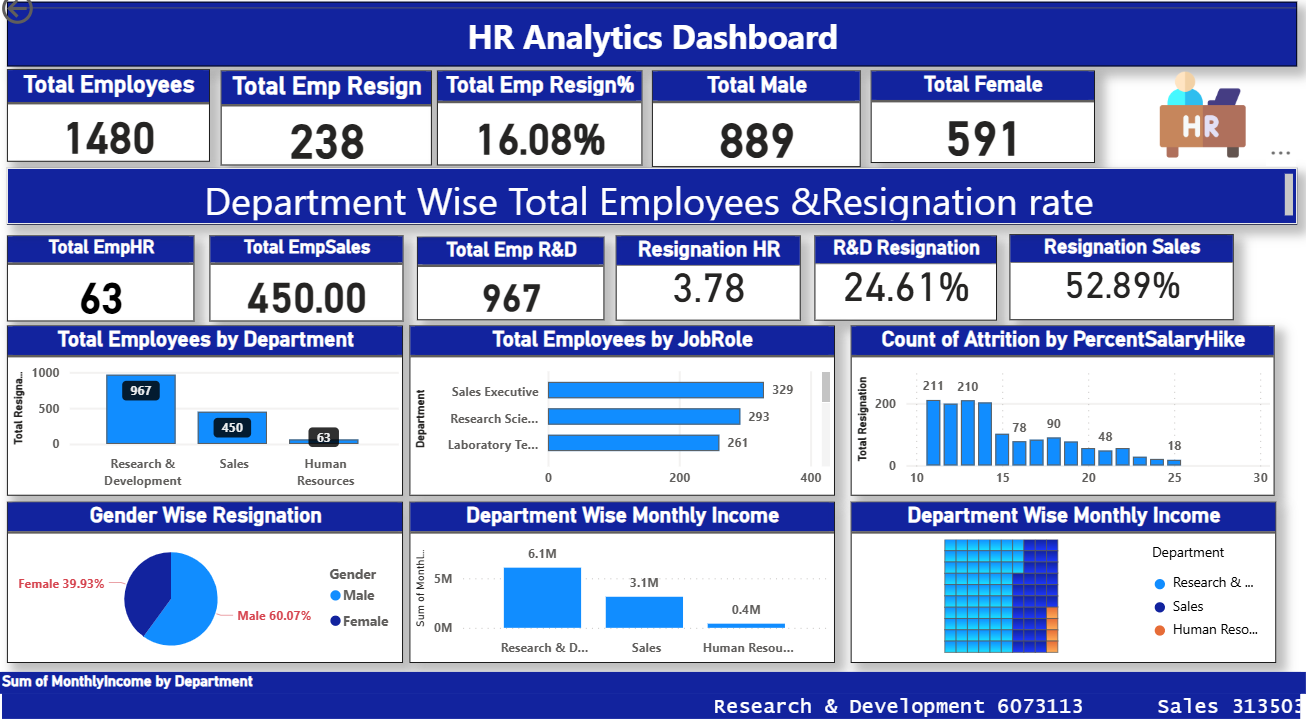

The dashboard page shown, as its layout file describes it:
{"tool":"powerbi","page":{"name":"Page 1","canvas":[1280,720],"ordinal":0},"visuals":[{"type":"textbox","box":[9.8,13.4,1261.5,63.6],"z":0},{"type":"card","title":"Total Employees","fields":{"Values":["HR_Analytics.Total Employees"]},"box":[9.8,79.5,198,90.5],"z":1000},{"type":"card","title":"Total Emp Resign","fields":{"Values":["HR_Analytics.Total Resignation"]},"box":[218.8,80.7,206.6,92.9],"z":2000},{"type":"actionButton","box":[0,0,100,40],"z":3000},{"type":"card","title":"Total Emp Resign%","fields":{"Values":["HR_Analytics.Employees Resignation%"]},"box":[430.3,80.7,200.5,92.9],"z":4000},{"type":"card","title":"Total Male","fields":{"Values":["HR_Analytics.Total Male"]},"box":[640.5,80.7,204.1,94.1],"z":5000},{"type":"card","title":"Total Female","fields":{"Values":["HR_Analytics.Total Female"]},"box":[854.5,80.7,218.8,90.5],"z":6000},{"type":"card","title":"Total EmpHR","fields":{"Values":["HR_Analytics.Total HR dept Employees"]},"box":[9.8,242,183.4,84.3],"z":7000},{"type":"card","title":"Total EmpSales","fields":{"Values":["HR_Analytics.Total Employees Research& Development"]},"box":[207.8,242,189.5,84.3],"z":8000},{"type":"card","title":"Total Emp R&D","fields":{"Values":["HR_Analytics.Total Employees Research and Development"]},"box":[410.7,243.3,183.4,81.9],"z":9000},{"type":"card","title":"Resignation HR","fields":{"Values":["HR_Analytics.Resign Human Resources"]},"box":[605.1,242,180.9,83.1],"z":10000},{"type":"card","title":" R&D Resignation","fields":{"Values":["HR_Analytics.Resignation R&d"]},"box":[799.5,242,178.5,83.1],"z":11000},{"type":"card","title":"Resignation Sales","fields":{"Values":["HR_Analytics.Resignation Sales"]},"box":[990.2,240.8,218.8,84.3],"z":12000},{"type":"textbox","box":[9.8,176,1261.5,55],"z":13000},{"type":"columnChart","fields":{"Y":["HR_Analytics.Total Employees"],"Category":["HR_Analytics.Department"]},"box":[9.8,330.1,387.5,166.2],"z":14000},{"type":"barChart","fields":{"Category":["HR_Analytics.JobRole"],"Y":["HR_Analytics.Total Employees"]},"box":[403.4,330.1,415.6,166.2],"z":15000},{"type":"columnChart","fields":{"Category":["HR_Analytics.PercentSalaryHike"],"Y":["CountNonNull(HR_Analytics.Attrition)"]},"box":[834.9,330.1,414.4,166.2],"z":16000},{"type":"pieChart","title":"Gender Wise Resignation","fields":{"Category":["HR_Analytics.Gender"],"Y":["CountNonNull(HR_Analytics.Attrition)"]},"box":[9.8,502.4,387.5,157.7],"z":17000},{"type":"columnChart","title":"Department Wise Monthly Income","fields":{"Y":["Sum(HR_Analytics.MonthlyIncome)"],"Category":["HR_Analytics.Department"]},"box":[403.4,502.4,415.6,157.7],"z":18000},{"type":"BrickChart1454871868044","title":"Department Wise Monthly Income","fields":{"Value":["Sum(HR_Analytics.MonthlyIncome)"],"Category":["HR_Analytics.Department"]},"box":[834.9,502.4,415.6,157.7],"z":19000},{"type":"ScrollingTextVisual1448795304508","fields":{"Category":["HR_Analytics.Department"],"Measure Absolute":["Sum(HR_Analytics.MonthlyIncome)"]},"box":[0,668.7,1279.9,51.3],"z":20000},{"type":"image","box":[1086.7,77,184.6,94.1],"z":21000}]}

Visuals, with their boxes in screenshot pixels (x1, y1, x2, y2), scaled from the page's 1280x720 canvas onto the 1306x719 screenshot:
textbox: [10, 13, 1297, 77]
"Total Employees" card: [10, 79, 212, 170]
"Total Emp Resign" card: [223, 81, 434, 173]
actionButton: [0, 0, 102, 40]
"Total Emp Resign%" card: [439, 81, 644, 173]
"Total Male" card: [654, 81, 862, 175]
"Total Female" card: [872, 81, 1095, 171]
"Total EmpHR" card: [10, 242, 197, 326]
"Total EmpSales" card: [212, 242, 405, 326]
"Total Emp R&D" card: [419, 243, 606, 325]
"Resignation HR" card: [617, 242, 802, 325]
" R&D Resignation" card: [816, 242, 998, 325]
"Resignation Sales" card: [1010, 240, 1234, 325]
textbox: [10, 176, 1297, 231]
columnChart - HR_Analytics.Total Employees x HR_Analytics.Department: [10, 330, 405, 496]
barChart - HR_Analytics.JobRole x HR_Analytics.Total Employees: [412, 330, 836, 496]
columnChart - HR_Analytics.PercentSalaryHike x CountNonNull(HR_Analytics.Attrition): [852, 330, 1275, 496]
"Gender Wise Resignation" pieChart: [10, 502, 405, 659]
"Department Wise Monthly Income" columnChart: [412, 502, 836, 659]
"Department Wise Monthly Income" BrickChart1454871868044: [852, 502, 1276, 659]
ScrollingTextVisual1448795304508 - HR_Analytics.Department x Sum(HR_Analytics.MonthlyIncome): [0, 668, 1305, 718]
image: [1109, 77, 1297, 171]
